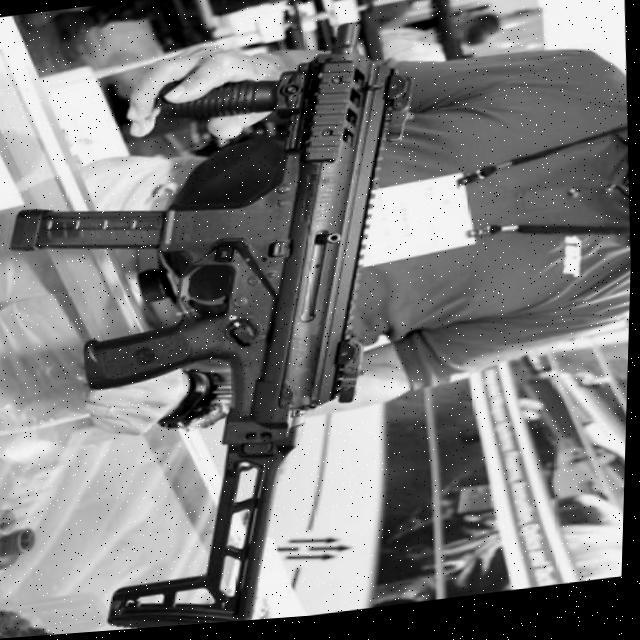firearm: (0, 18, 443, 639)
